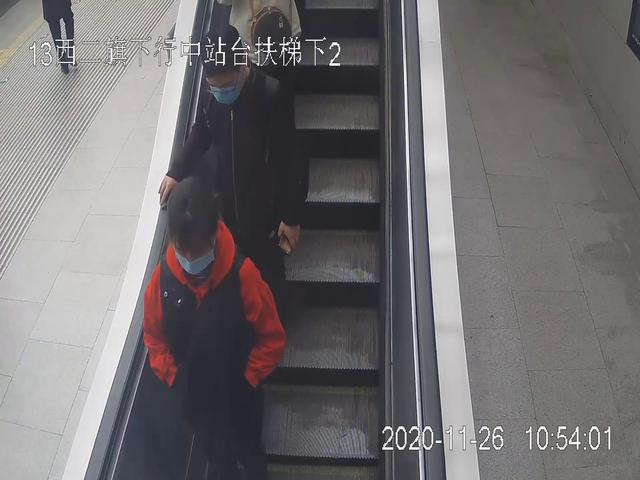person: (159, 24, 306, 366), (143, 177, 287, 480)
